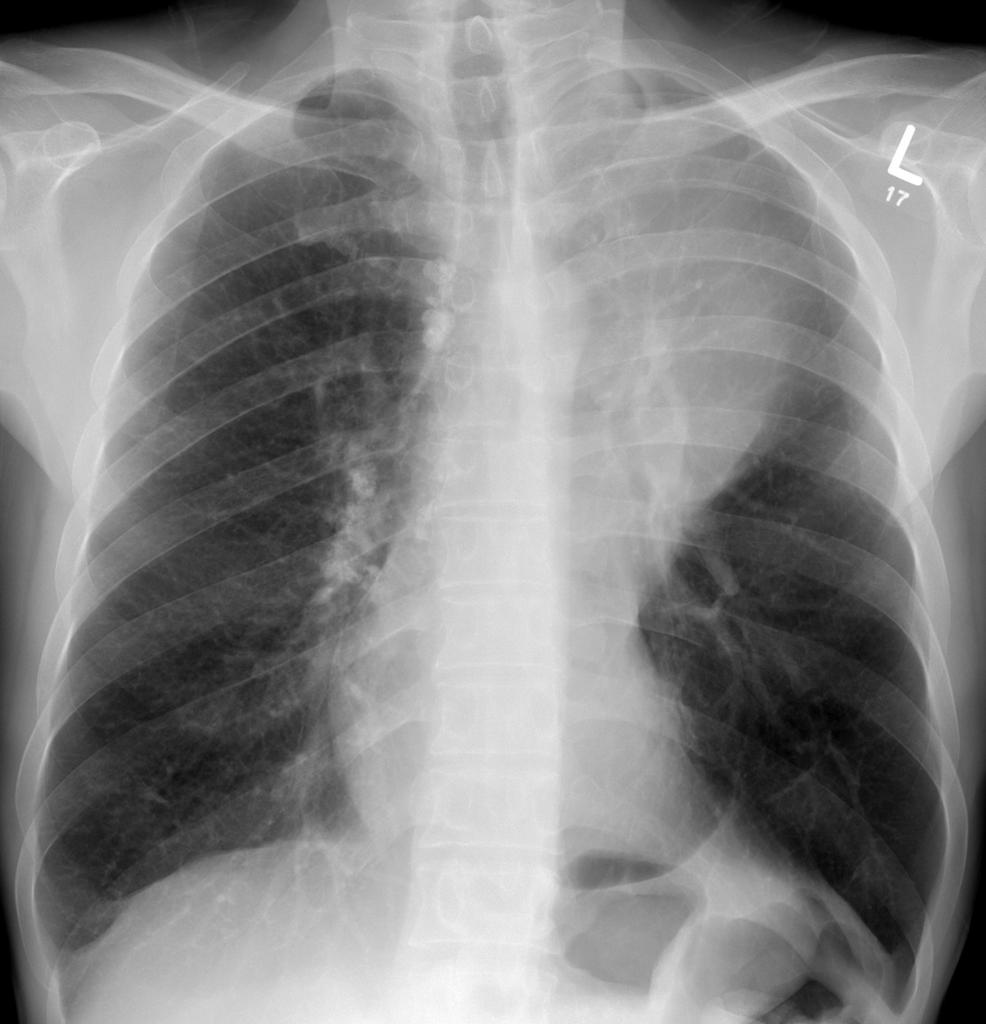cancer: (83, 256, 409, 904), (563, 104, 869, 682)
